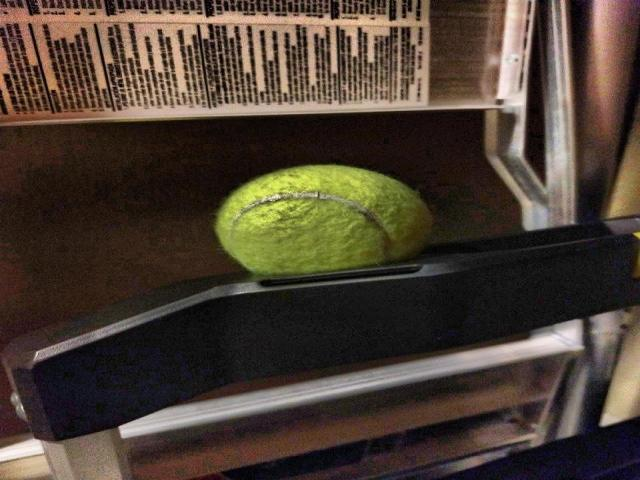tennis-ball: (217, 161, 436, 275)
